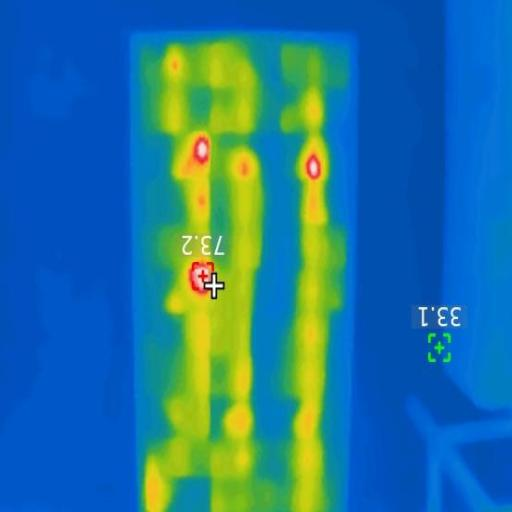hotspot: (189, 262, 212, 292), (194, 137, 212, 161), (304, 154, 322, 176)
